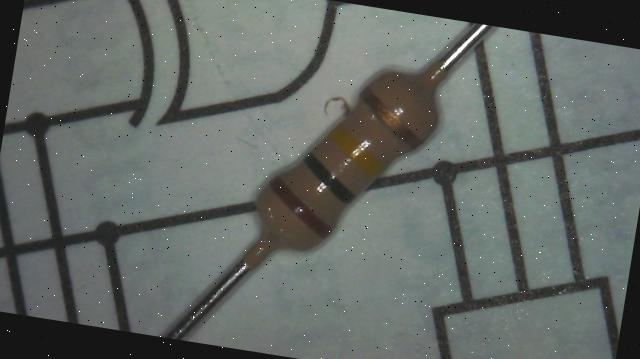black: (298, 150, 362, 204)
brown: (262, 175, 340, 239)
gold: (354, 86, 429, 150)
resistor: (213, 30, 491, 303)
yellow: (323, 124, 389, 177)
